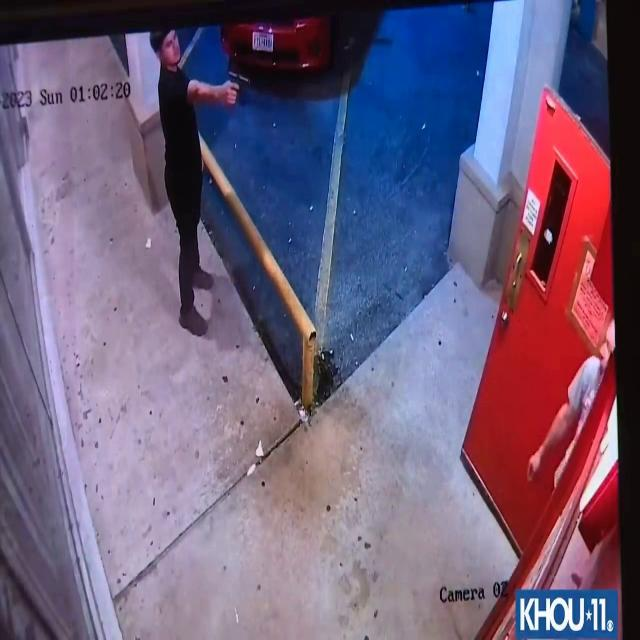penembakan: (148, 29, 254, 339)
